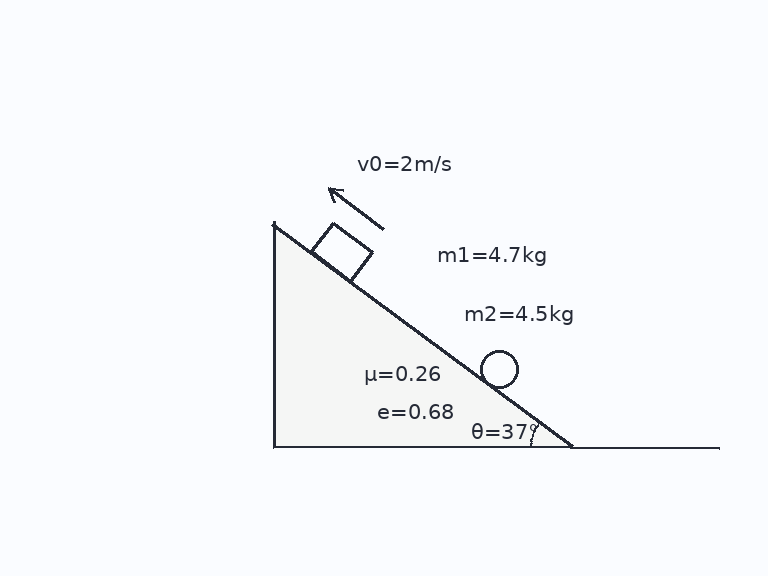ball: (478, 348, 520, 390)
block: (309, 221, 374, 283)
ramp: (271, 221, 573, 449)
